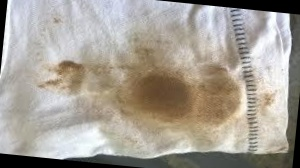earth: (128, 65, 239, 128), (52, 61, 85, 95)
